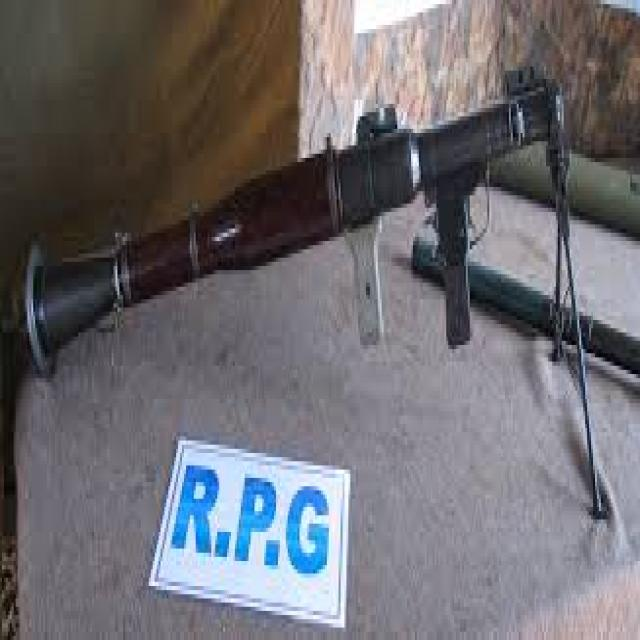Gun: (6, 82, 604, 368)
